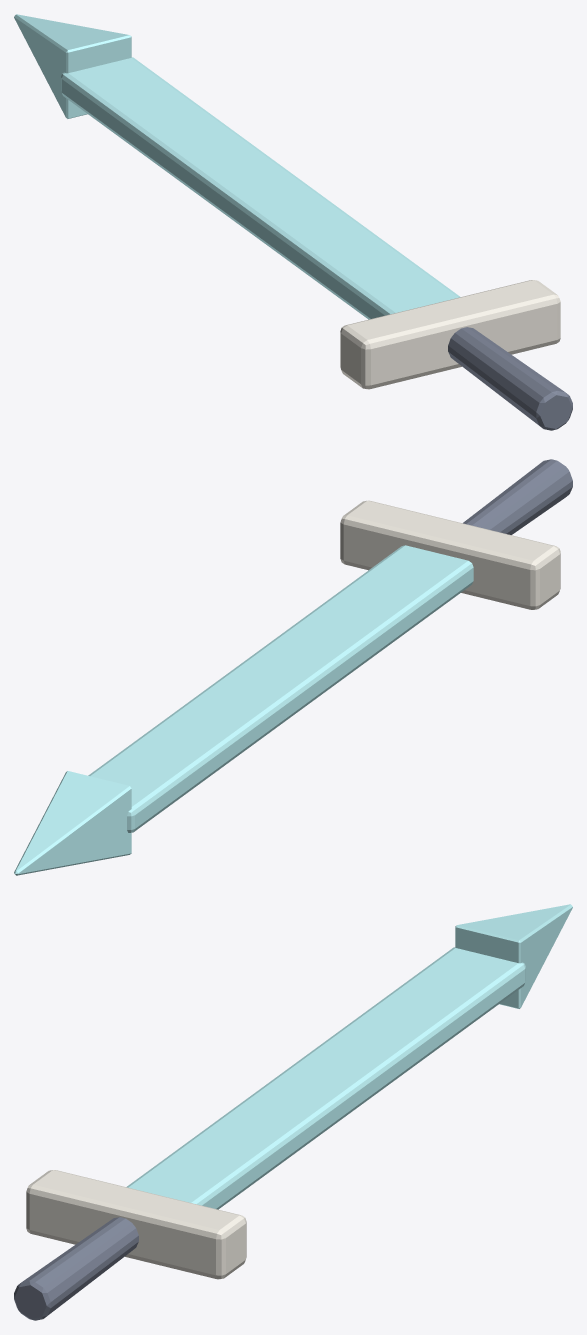
Rendered from Weapon_FrostRuneblade.fbx.
The picture shows the model from 3 angles, top to bottom: view 1: azimuth 30°, elevation 25°; view 2: azimuth 150°, elevation 25°; view 3: azimuth 330°, elevation 25°; orthographic projection.
Visible parts, largest first — view 1: IceBlade, Guard, Grip, IceTip; view 2: IceBlade, Guard, IceTip, Grip; view 3: IceBlade, Guard, Grip, IceTip.
Part boxes in pixels (x1,y1,x2,y2): IceBlade: (61, 57, 460, 319); Guard: (340, 280, 560, 389); Grip: (448, 327, 572, 430); IceTip: (14, 14, 131, 118); IceBlade: (88, 545, 473, 832); Guard: (340, 500, 560, 609); IceTip: (14, 771, 131, 875); Grip: (463, 459, 572, 534); IceBlade: (126, 947, 525, 1209); Guard: (26, 1170, 246, 1279); Grip: (14, 1217, 138, 1320); IceTip: (455, 904, 572, 1008).
Bounding box in the file's own units: 0.38 × 0.1258 × 1.79.
